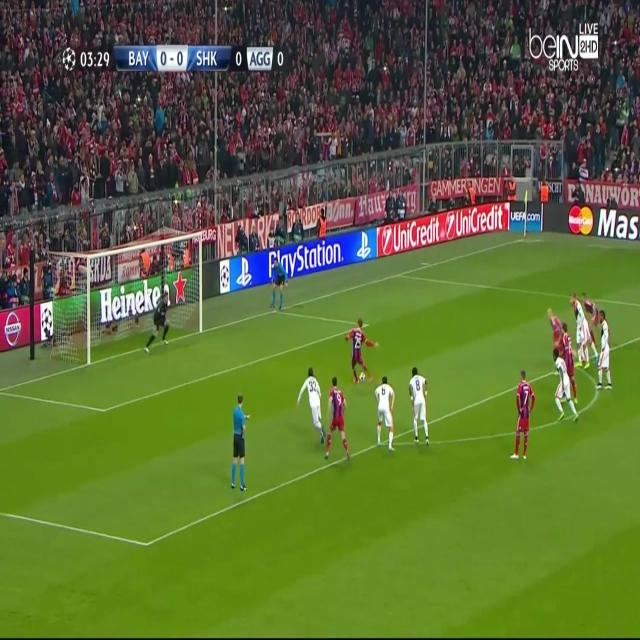Ball: (358, 369, 365, 385)
Goalkeeper: (143, 288, 172, 357)
Player: (509, 369, 537, 463), (296, 364, 326, 448), (344, 316, 381, 384), (324, 378, 351, 467), (553, 347, 582, 426), (408, 366, 432, 449), (373, 376, 397, 454), (569, 291, 591, 371), (595, 308, 613, 394), (558, 320, 576, 396), (545, 306, 564, 348), (580, 289, 600, 326)
Referee: (229, 391, 252, 495), (266, 255, 288, 313)
